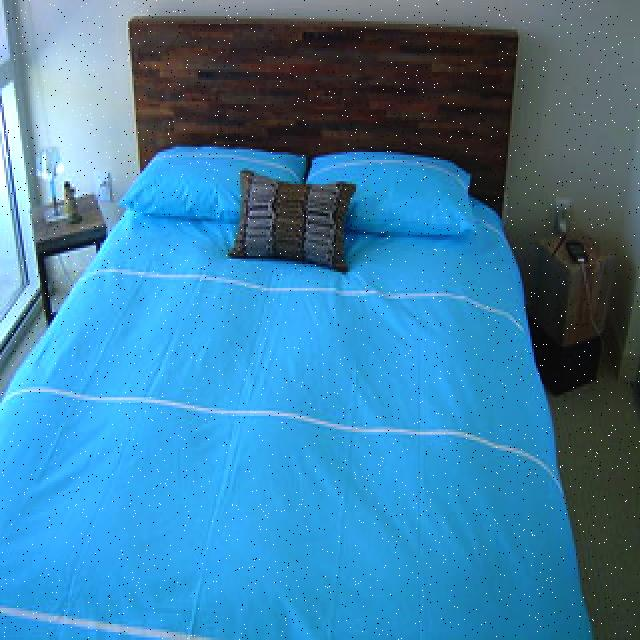bed: (0, 30, 566, 638)
